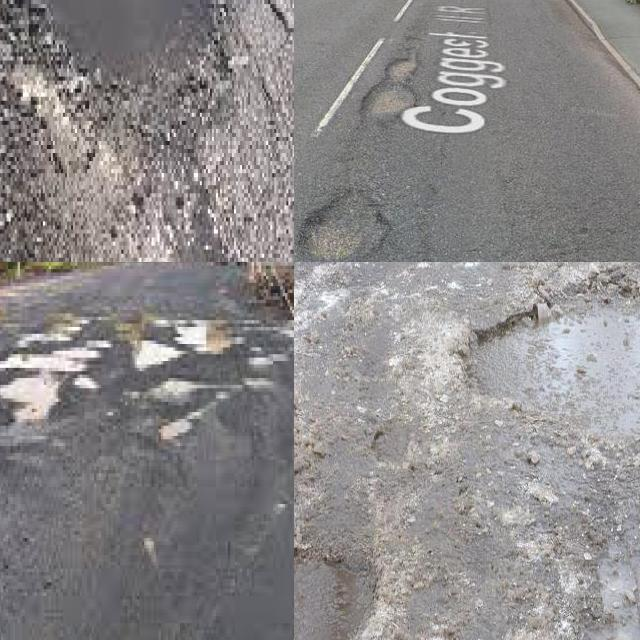Pothole: (458, 277, 640, 440), (0, 334, 108, 412), (294, 549, 372, 640), (305, 191, 391, 262), (362, 36, 424, 122), (135, 320, 228, 371), (151, 378, 216, 443)
